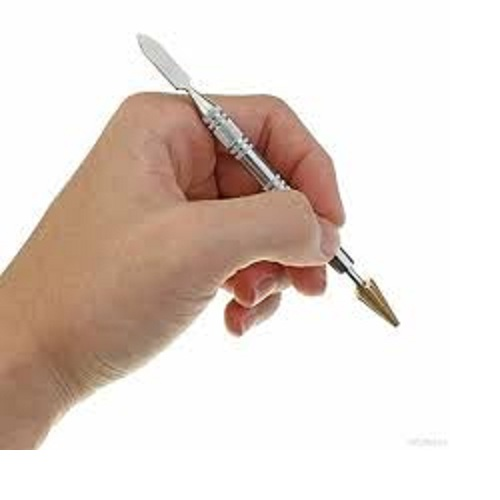Boligrafo: (133, 30, 403, 329)
